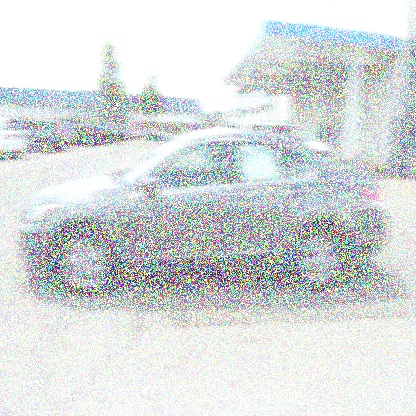Vehicle: (20, 129, 389, 296)
